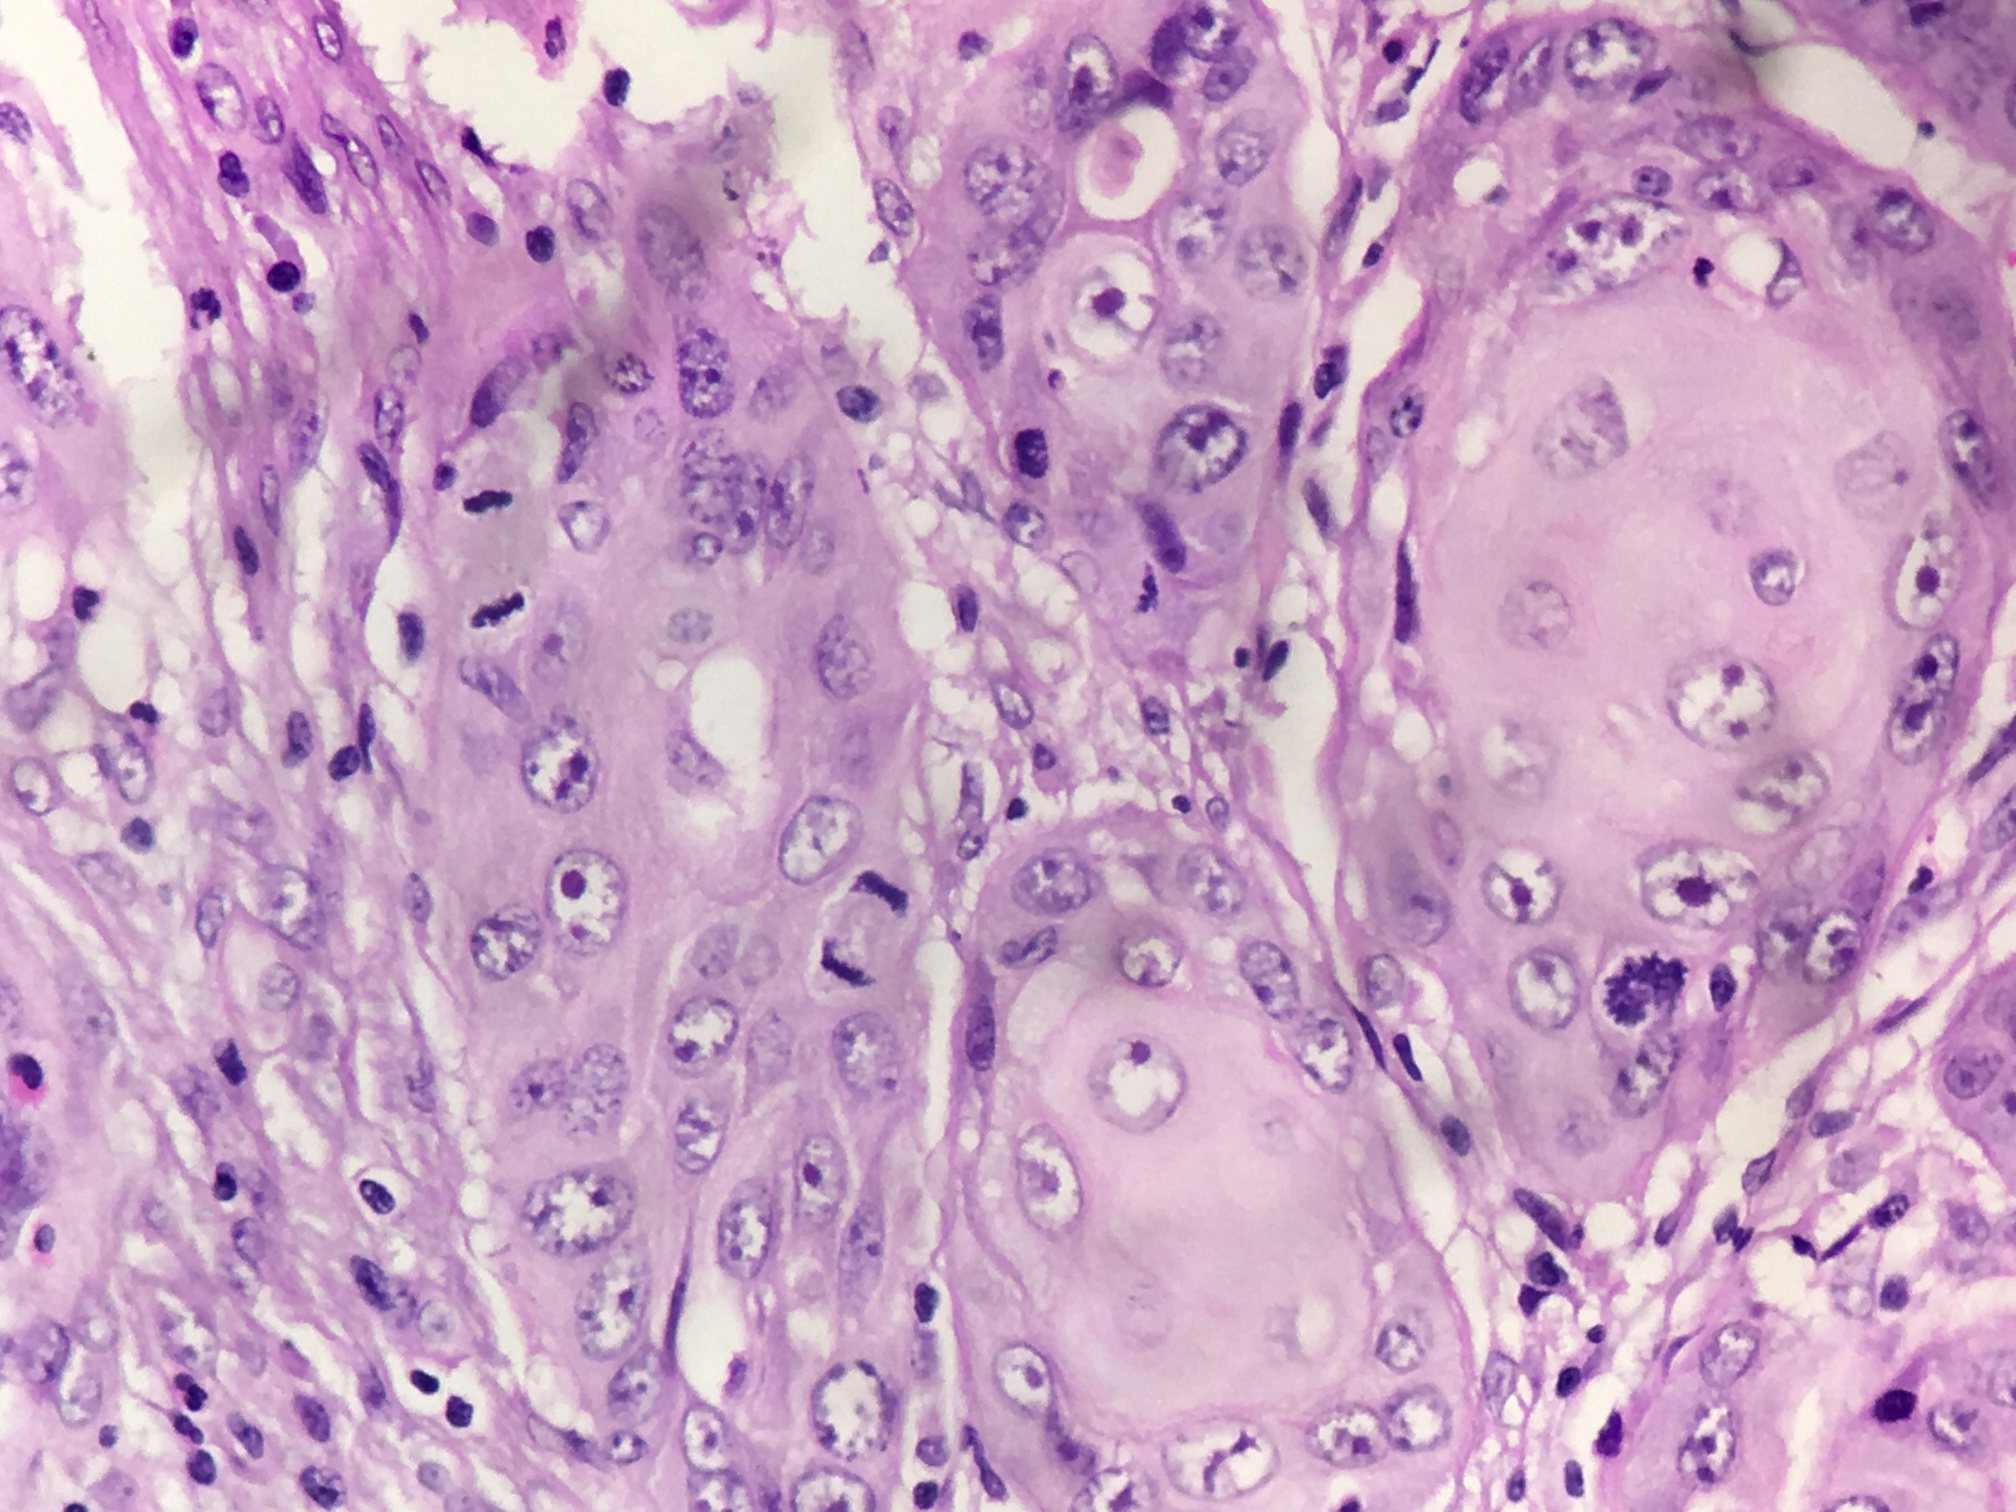mitotic: (778, 847, 933, 1001), (437, 465, 556, 634), (1578, 915, 1703, 1048)
